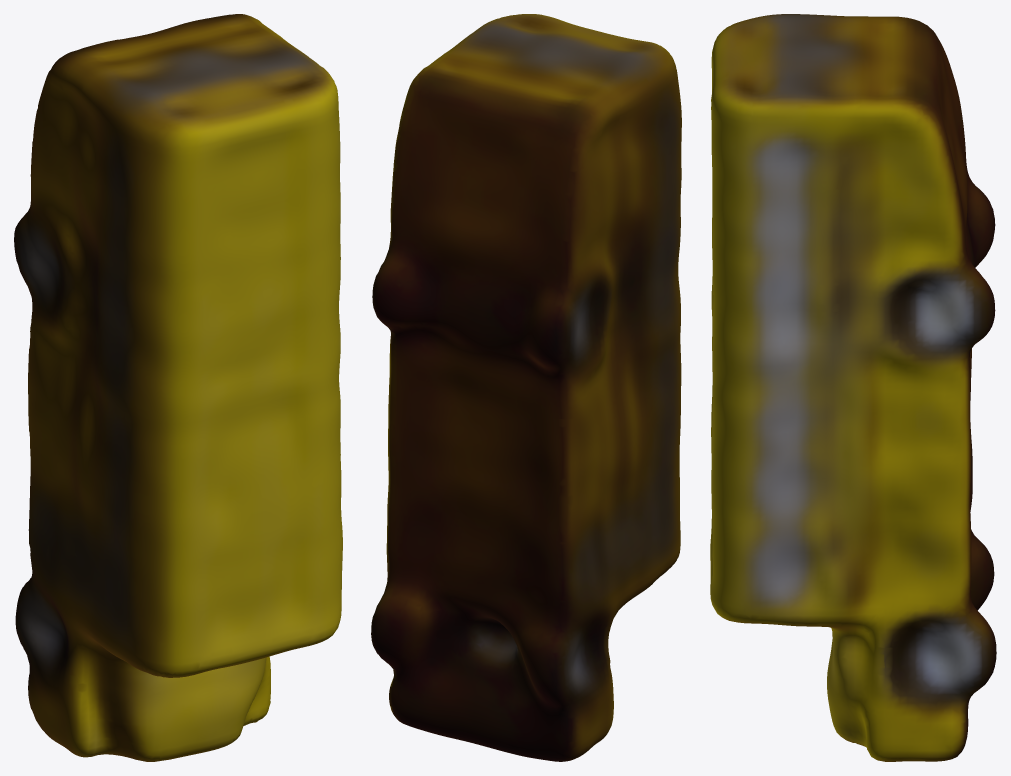
The model's file is school_bus1.glb.
3 renders of one model, left to right at view 1: azimuth 30°, elevation 25°; view 2: azimuth 150°, elevation 25°; view 3: azimuth 270°, elevation 25°, orthographic. The views are drawn at different scales.
Size of the model in its own units: 0.3214 by 0.9998 by 0.3853.
